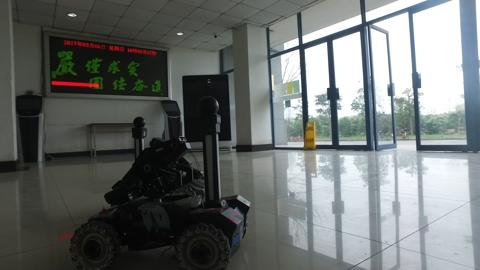chariot: (72, 91, 249, 262)
